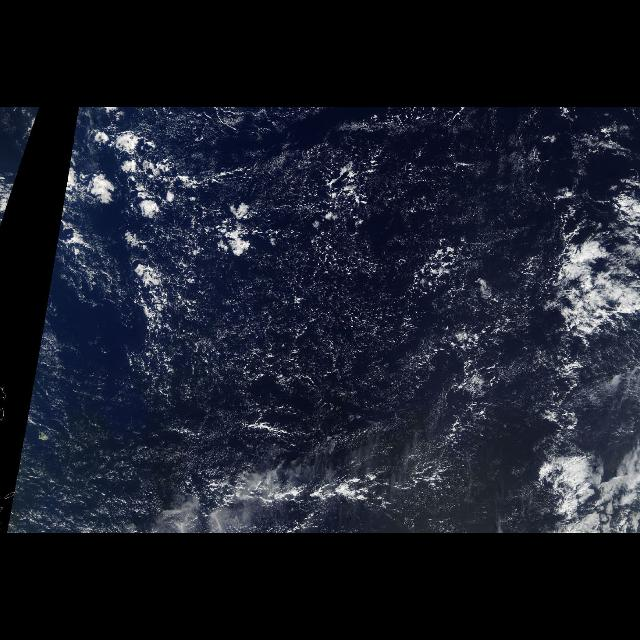Gravel: (162, 163, 378, 355)
Sugar: (14, 108, 546, 528)
